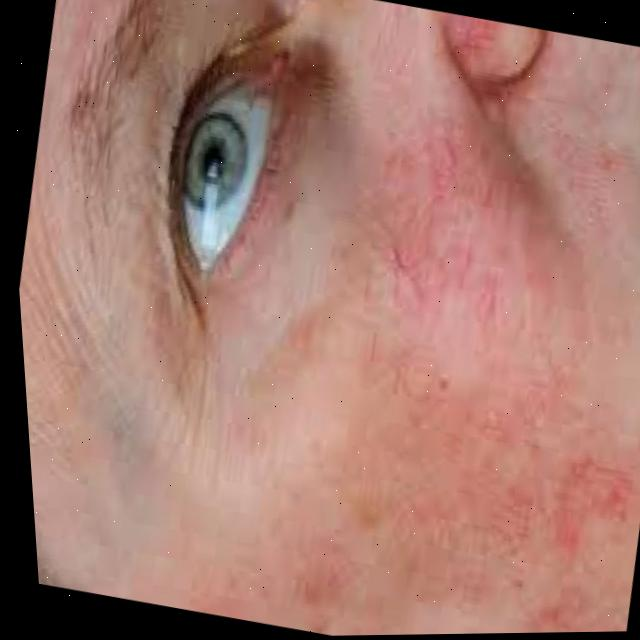Rosacea: (260, 117, 640, 636), (442, 12, 500, 68)
